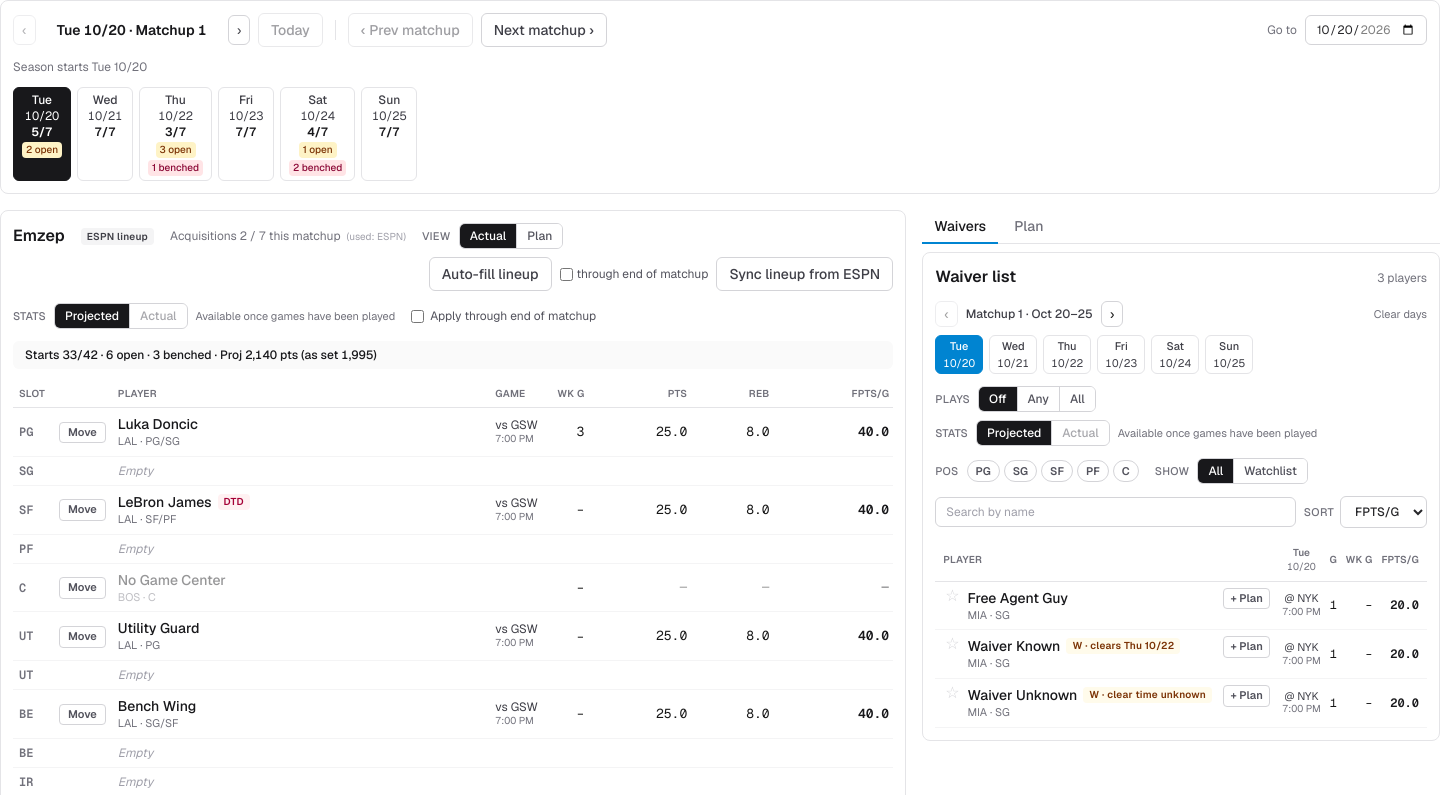
Scenario: moving a player › cancels on Escape and on a second click of Move
Check: the button "Luka Doncic" is shown, box [118,414,198,434]
Check: the button "Free Agent Guy" is shown, box [968,588,1068,608]
Click the button with aria-label "Move Luka Doncic" at (82, 433), box [59,422,106,444]
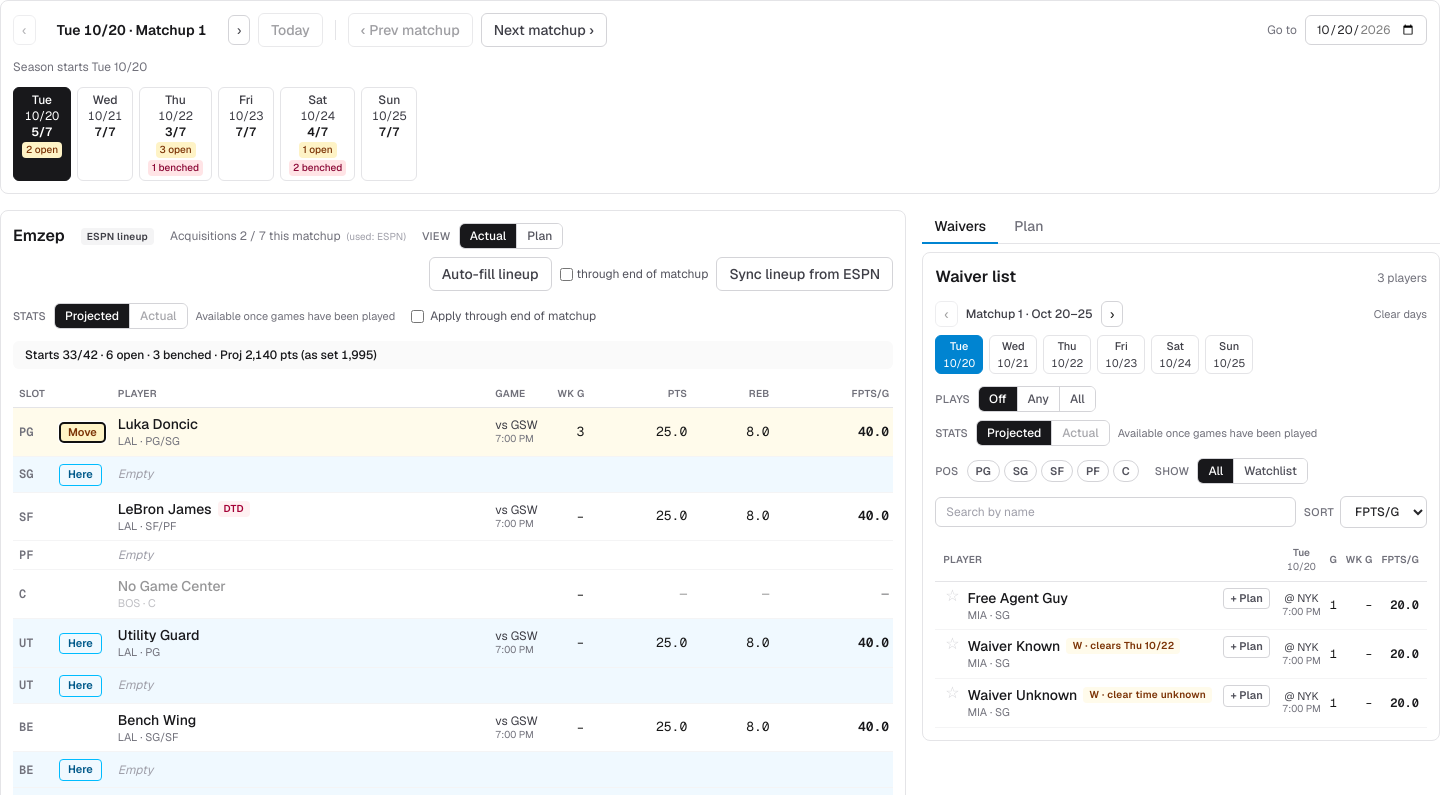
Check: the 1st button "Here" is shown, box [59,464,102,486]
Press Escape
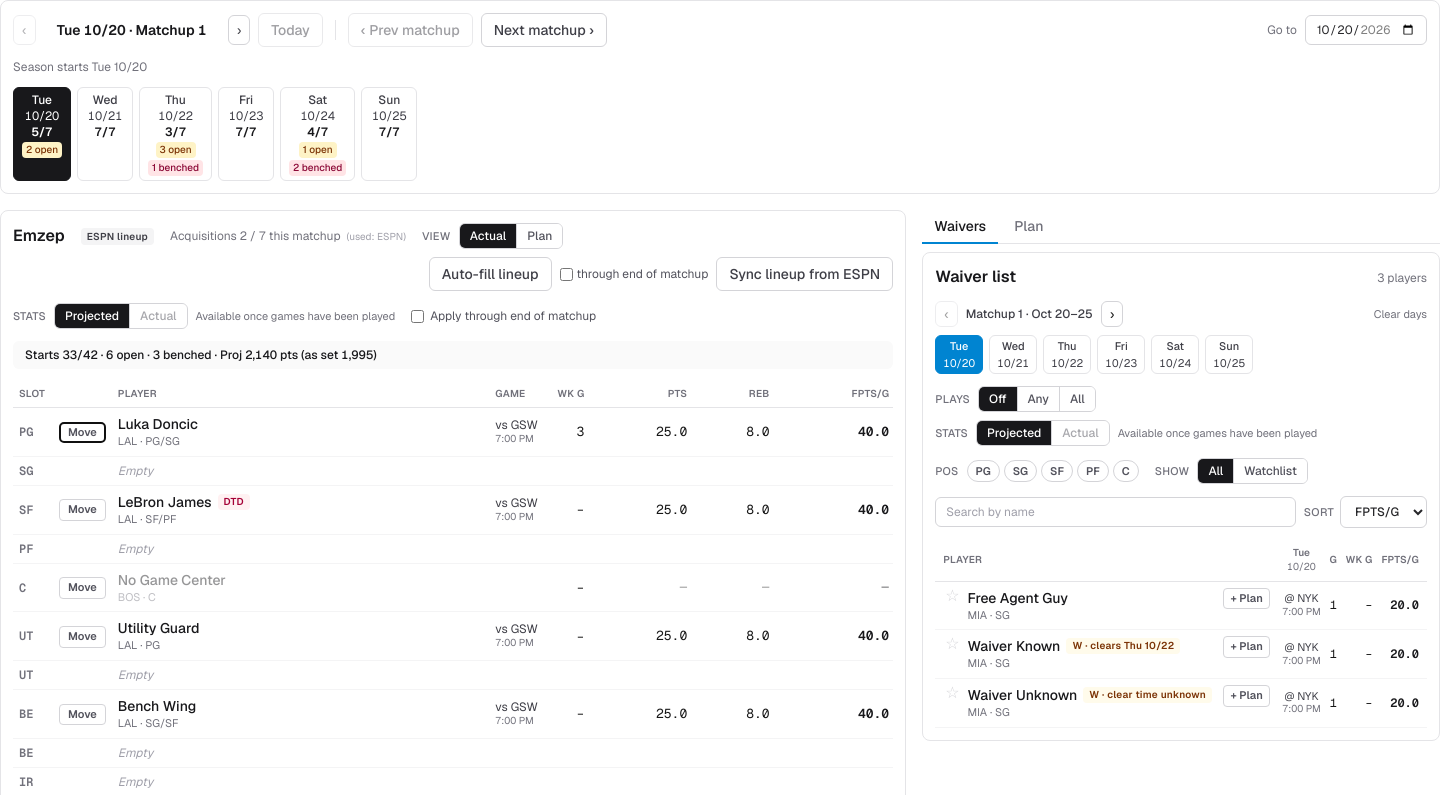
Check: no buttons "Here" are shown
Click the button with aria-label "Move Luka Doncic" at (82, 433), box [59,422,106,444]
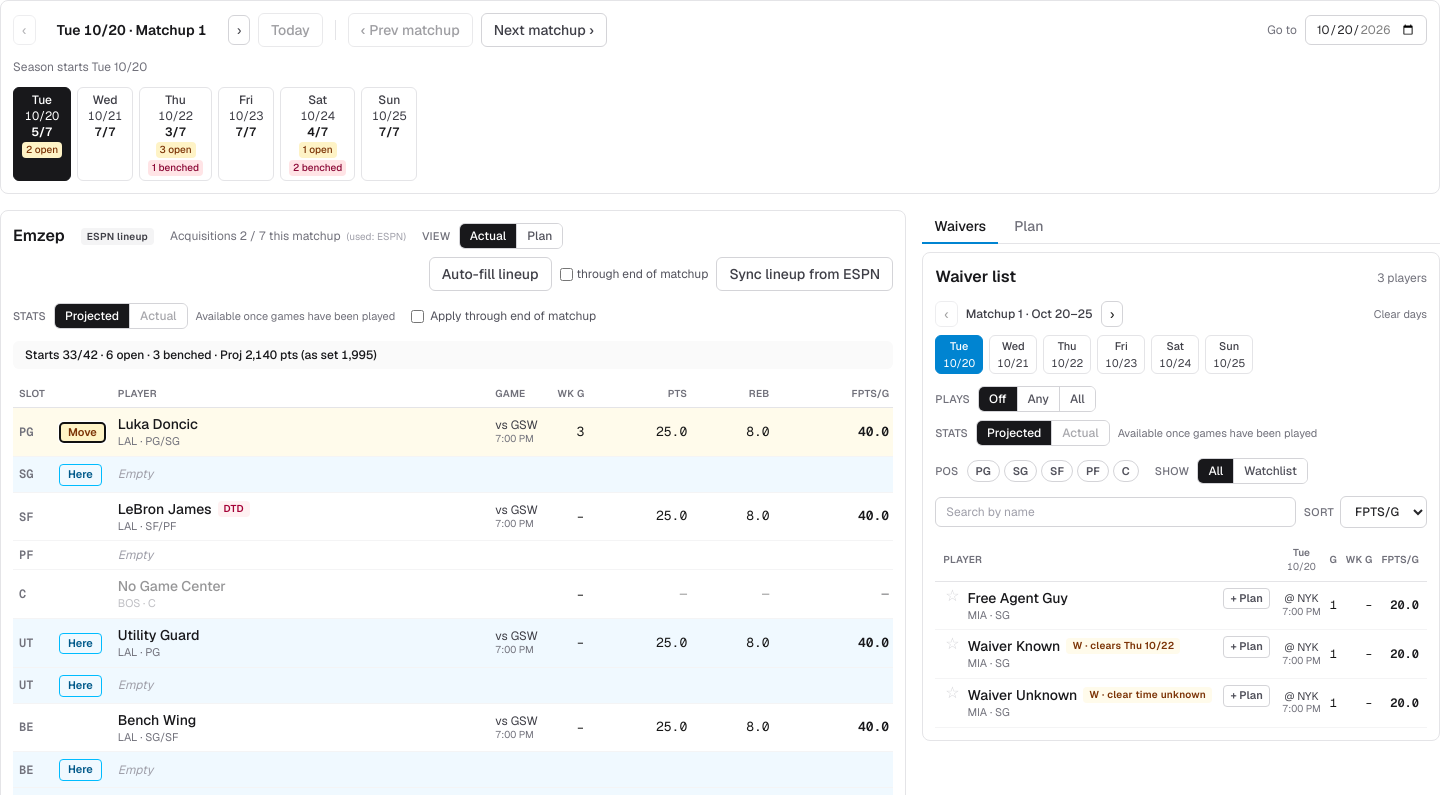
Click the button with aria-label "Move Luka Doncic" at (82, 433), box [59,422,106,444]
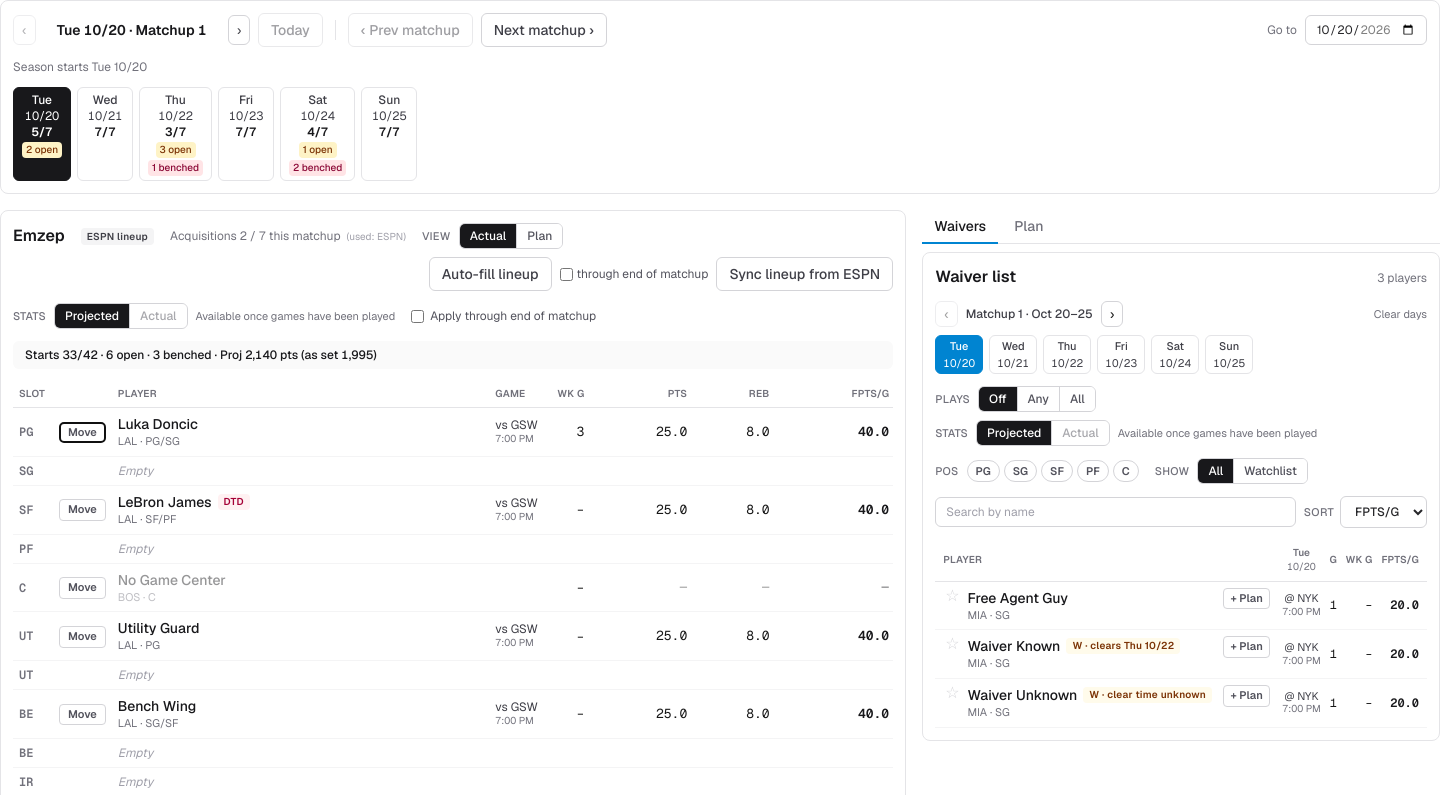
Check: no buttons "Here" are shown
